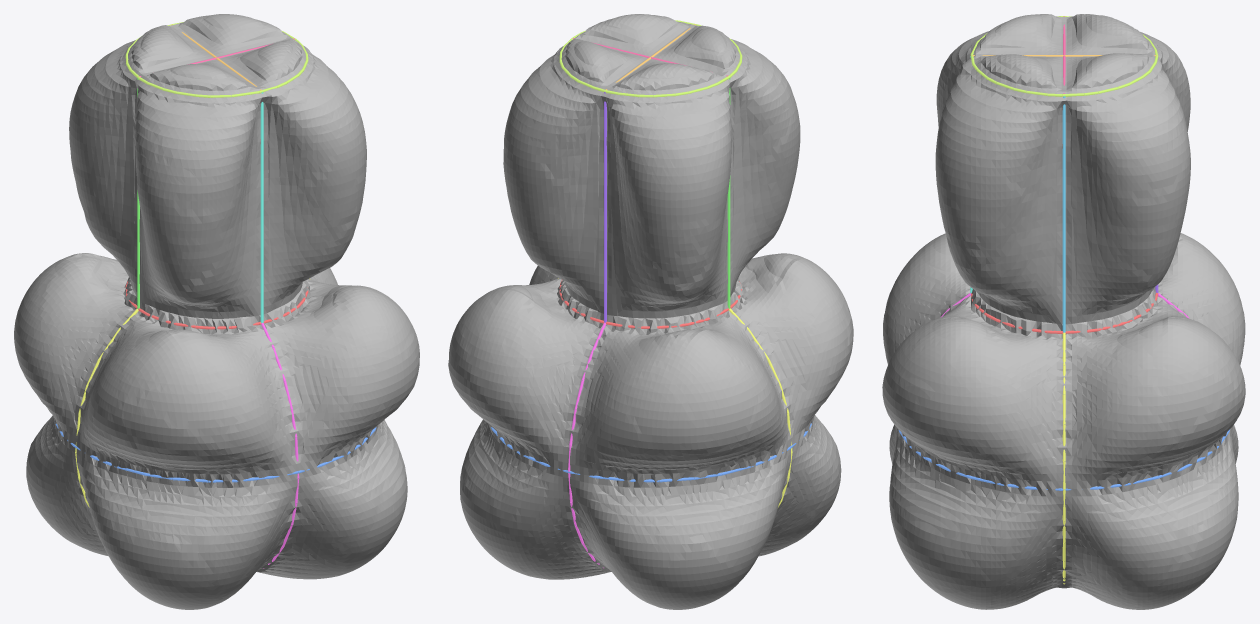
File: flowrep_spherecylinder.gltf
3 views of the same model, side by side, from view 1: azimuth 30°, elevation 25°; view 2: azimuth 150°, elevation 25°; view 3: azimuth 270°, elevation 25° (orthographic). The views are drawn at different scales.
Size of the model in its own units: 0.4913 by 0.8029 by 0.4927.
